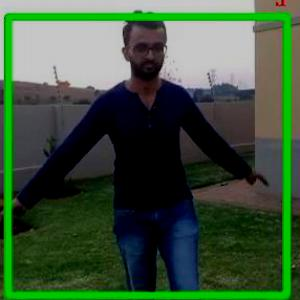land: (1, 22, 287, 299)
